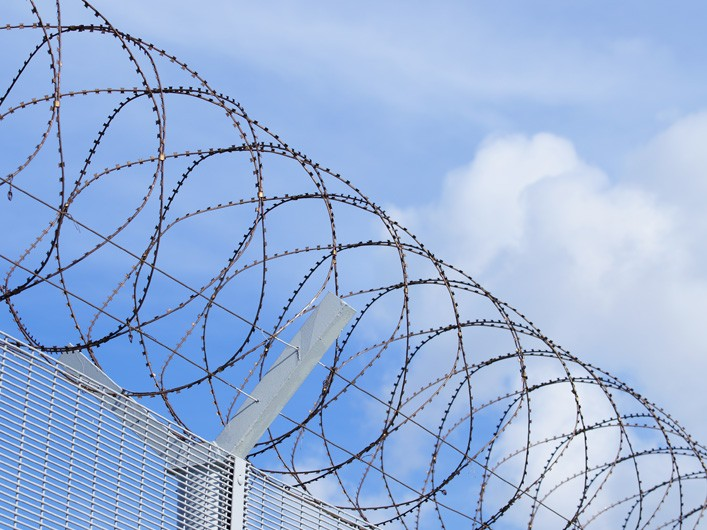Nonrec_Tangler: (5, 2, 703, 522)
